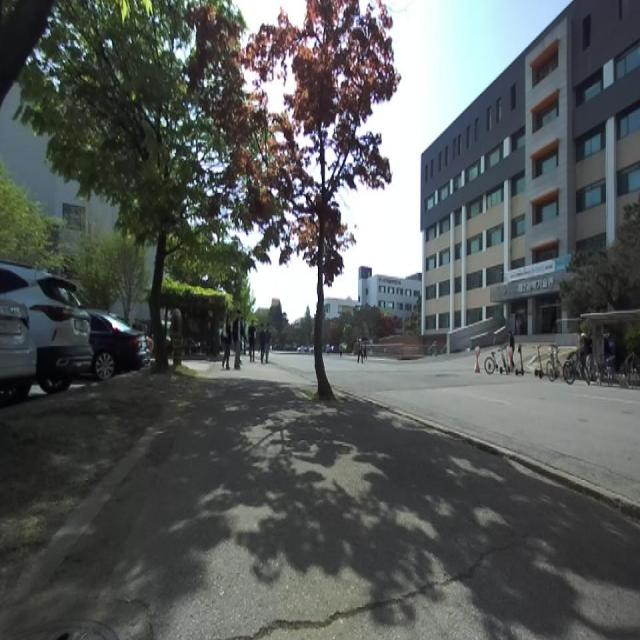sidewalk: (1, 356, 640, 638)
